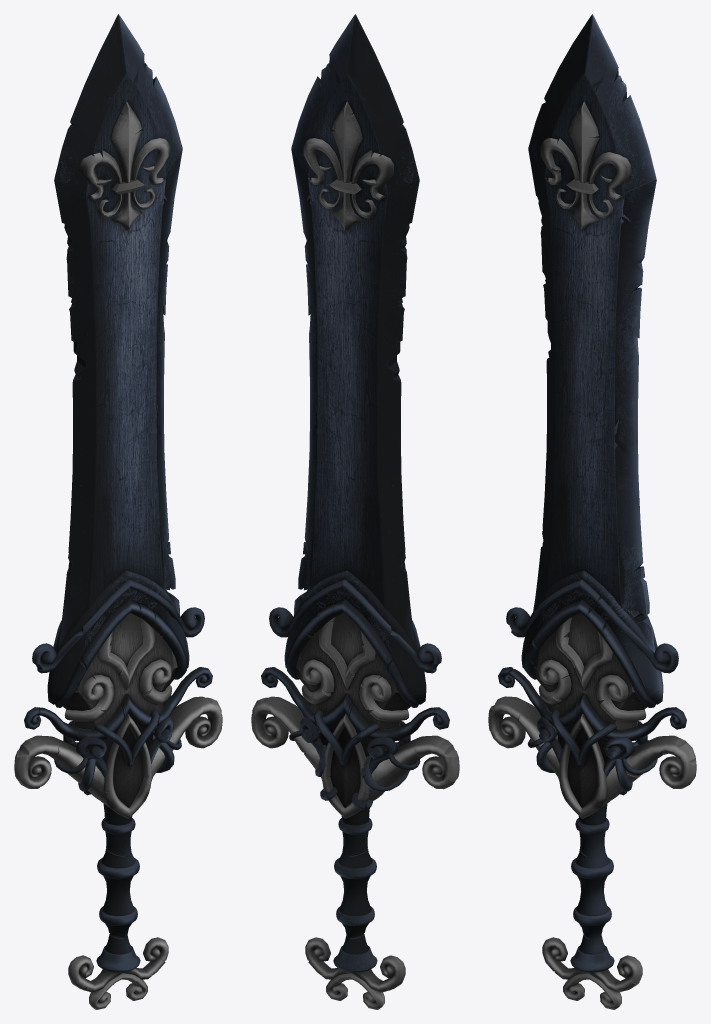
File: sm_sword_45.gltf
3 views of the same model, side by side, from view 1: azimuth 30°, elevation 25°; view 2: azimuth 150°, elevation 25°; view 3: azimuth 330°, elevation 25° (orthographic).
Visible parts, largest first — view 1: sm_sword_45; view 2: sm_sword_45; view 3: sm_sword_45.
Boxes of the visible parts, x1,y1,x2,y2 form: sm_sword_45: (14, 14, 222, 1009); sm_sword_45: (251, 14, 459, 1009); sm_sword_45: (488, 14, 696, 1009).
Bounding box in the file's own units: 0.3335 × 1.52 × 0.0906.
1 material, 1 textured.
